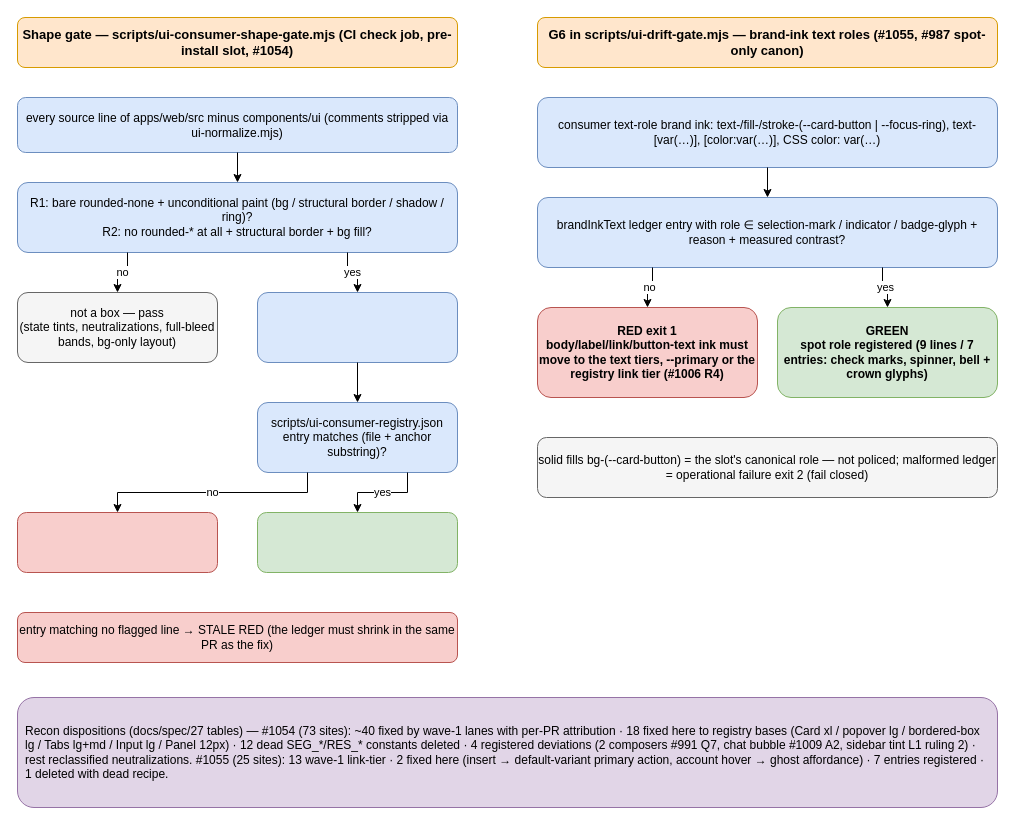
Some shapes in this 1015 by 825 pixel diagram are drawn without their labels. The shapes that lost their labels are listed below. From the top down, each one's centre as x and y in pixels, then its label:
the point at 357,327: flagged: visible square box
the point at 117,542: RED exit 1 unregistered square box
the point at 357,542: GREEN: rides-primitive + basis / deviation + reason / state-surface
